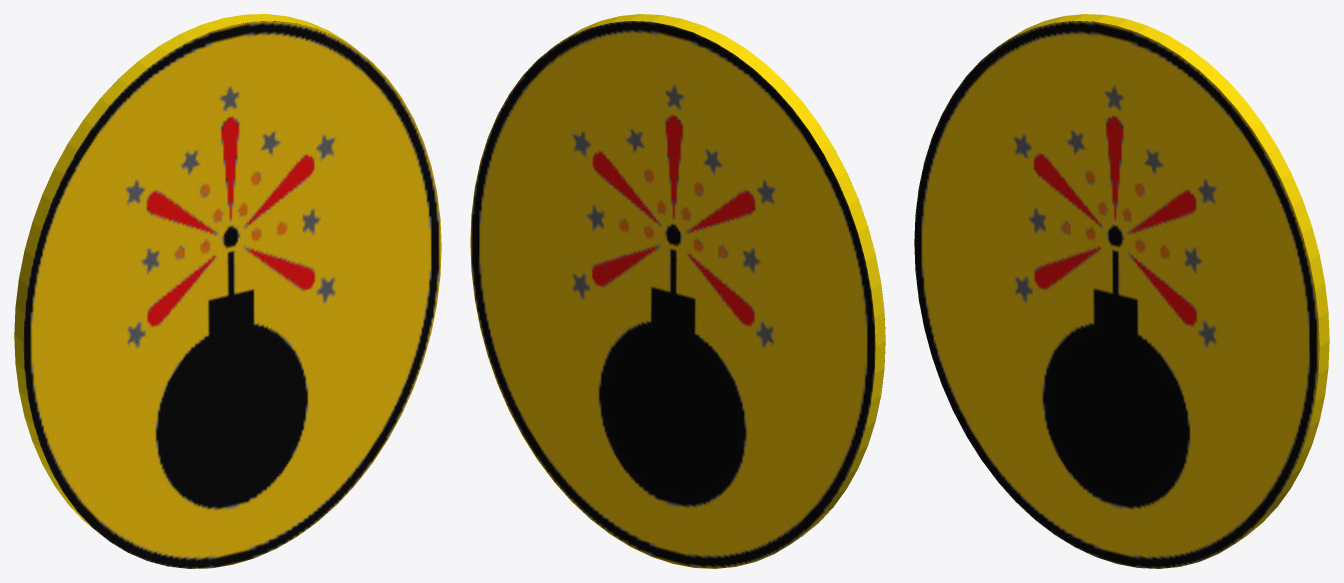
File: coin2.obj
3 renders of one model, left to right at view 1: azimuth 30°, elevation 25°; view 2: azimuth 150°, elevation 25°; view 3: azimuth 330°, elevation 25°, orthographic.
Visible parts, largest first — view 1: Circle.005, Circle.006; view 2: Circle.001_Circle.000, Circle.006; view 3: Circle.005, Circle.006.
Part boxes in pixels (x1,y1,x2,y2): Circle.005: (23, 21, 441, 568); Circle.006: (14, 14, 413, 533); Circle.001_Circle.000: (470, 21, 875, 568); Circle.006: (470, 14, 885, 568); Circle.005: (914, 21, 1319, 568); Circle.006: (973, 14, 1329, 541).
Bounding box in the file's own units: 4 × 5 × 0.2598.
3 materials, 3 textured.
